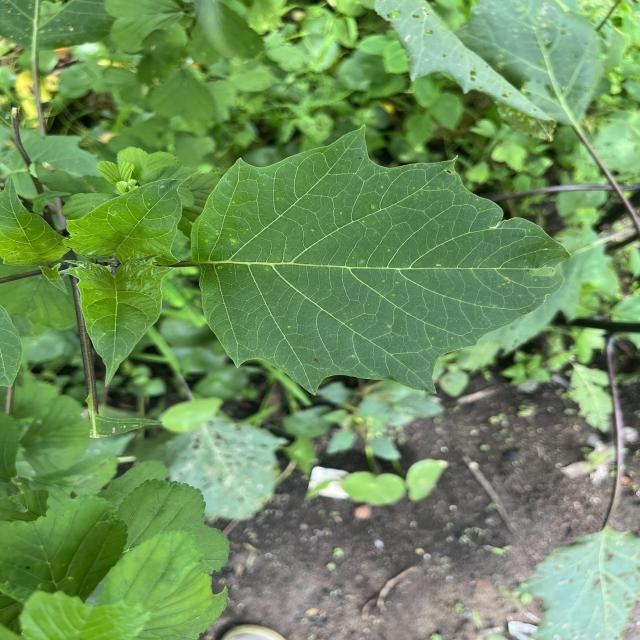Datura metal linn: (186, 121, 572, 400), (53, 256, 177, 391), (58, 167, 203, 262)
